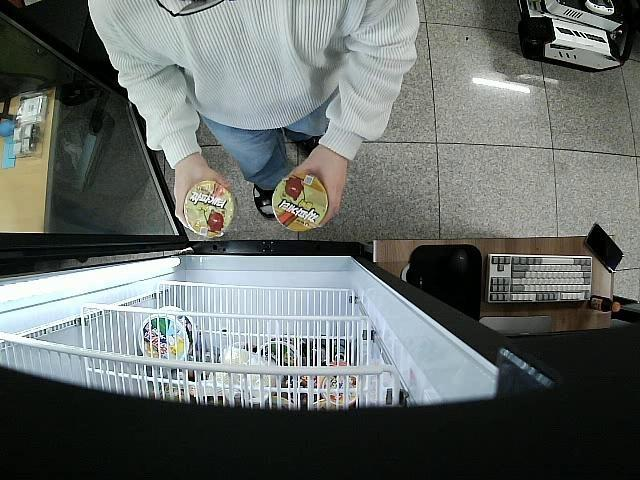04_chapagetti_S: (271, 173, 328, 232), (185, 182, 236, 238)
